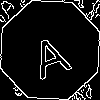A: (25, 25, 73, 80)
